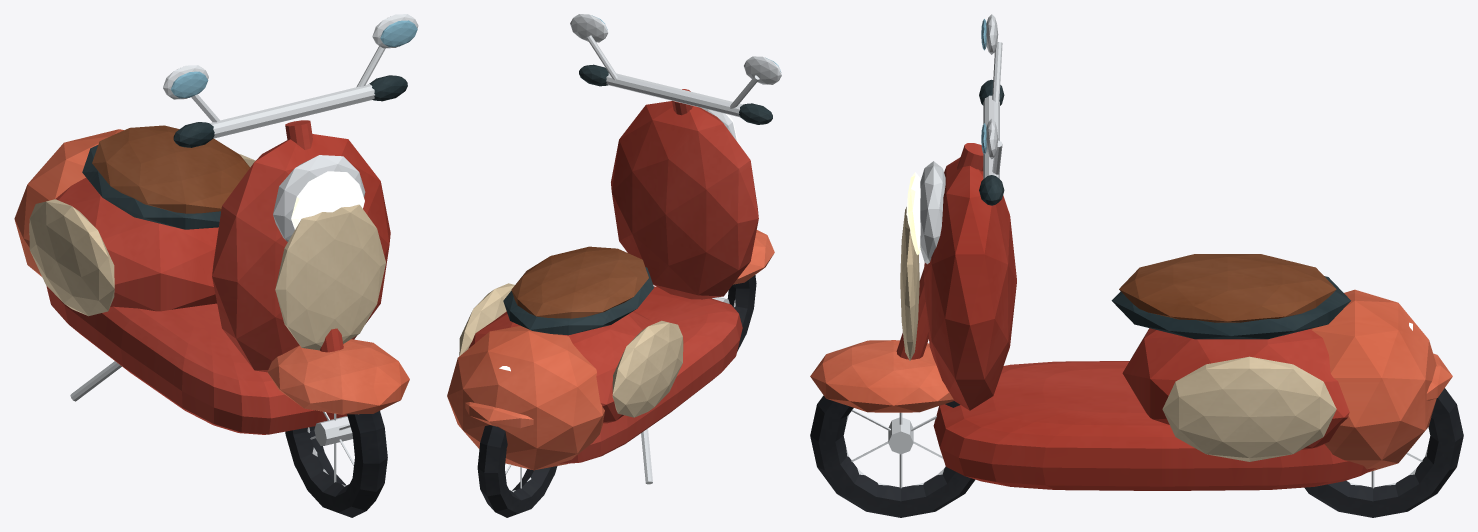
Rendered from scooter.glb.
3 views of the same model, side by side, from view 1: azimuth 30°, elevation 25°; view 2: azimuth 150°, elevation 25°; view 3: azimuth 270°, elevation 25° (orthographic). The views are drawn at different scales.
Parts seen in each view (by area): view 1: scooter_body, scooter_metal, wiel_voor, scooter_lamp, wiel_voor_metaal; view 2: scooter_body, scooter_metal, wiel_achter, wiel_voor; view 3: scooter_body, wiel_voor, wiel_achter, scooter_metal, wiel_voor_metaal, scooter_lamp.
Part boxes in pixels (x1,y1,x2,y2): scooter_body: (14, 20, 417, 434); scooter_metal: (70, 14, 418, 401); wiel_voor: (285, 411, 387, 517); scooter_lamp: (291, 171, 364, 229); wiel_voor_metaal: (307, 411, 354, 486); scooter_body: (447, 15, 781, 470); scooter_metal: (570, 14, 781, 484); wiel_achter: (477, 425, 557, 517); wiel_voor: (727, 275, 756, 351); scooter_body: (810, 19, 1452, 490); wiel_voor: (810, 395, 975, 517); wiel_achter: (1304, 388, 1463, 517); scooter_metal: (920, 14, 1002, 264); wiel_voor_metaal: (846, 409, 944, 488); scooter_lamp: (906, 172, 1412, 330).
Bounding box in the file's own units: 0.83 × 1.36 × 1.8.
Materials: 3 (1 with a texture image).
